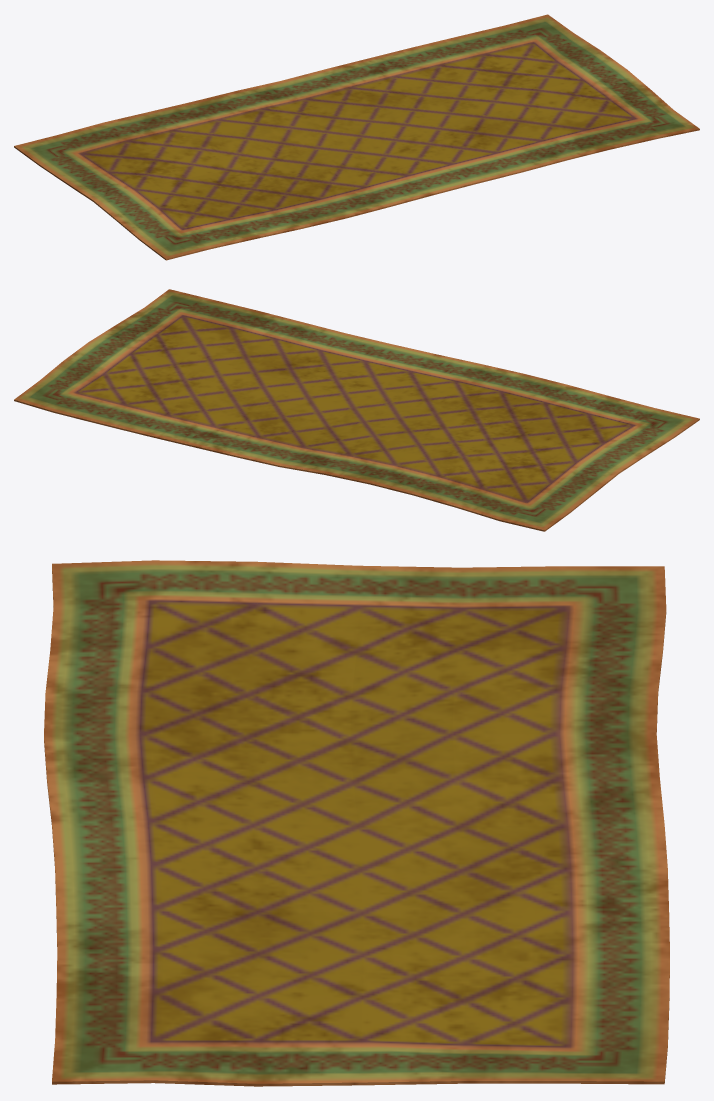
File: sb_obj_outdoor039_MatCloth01.fbx
3 views of the same model, one above another, from view 1: azimuth 30°, elevation 25°; view 2: azimuth 150°, elevation 25°; view 3: azimuth 270°, elevation 25° (orthographic). The views are drawn at different scales.
Visible parts, largest first — view 1: sb_obj_outdoor039_MatCloth01; view 2: sb_obj_outdoor039_MatCloth01; view 3: sb_obj_outdoor039_MatCloth01.
Part boxes in pixels (left/top/right/bottom): sb_obj_outdoor039_MatCloth01: left=14, top=14, right=699, bottom=260; sb_obj_outdoor039_MatCloth01: left=14, top=289, right=699, bottom=531; sb_obj_outdoor039_MatCloth01: left=44, top=560, right=669, bottom=1086.
Size of the model in its own units: 2.02 by 0.015 by 1.02.
